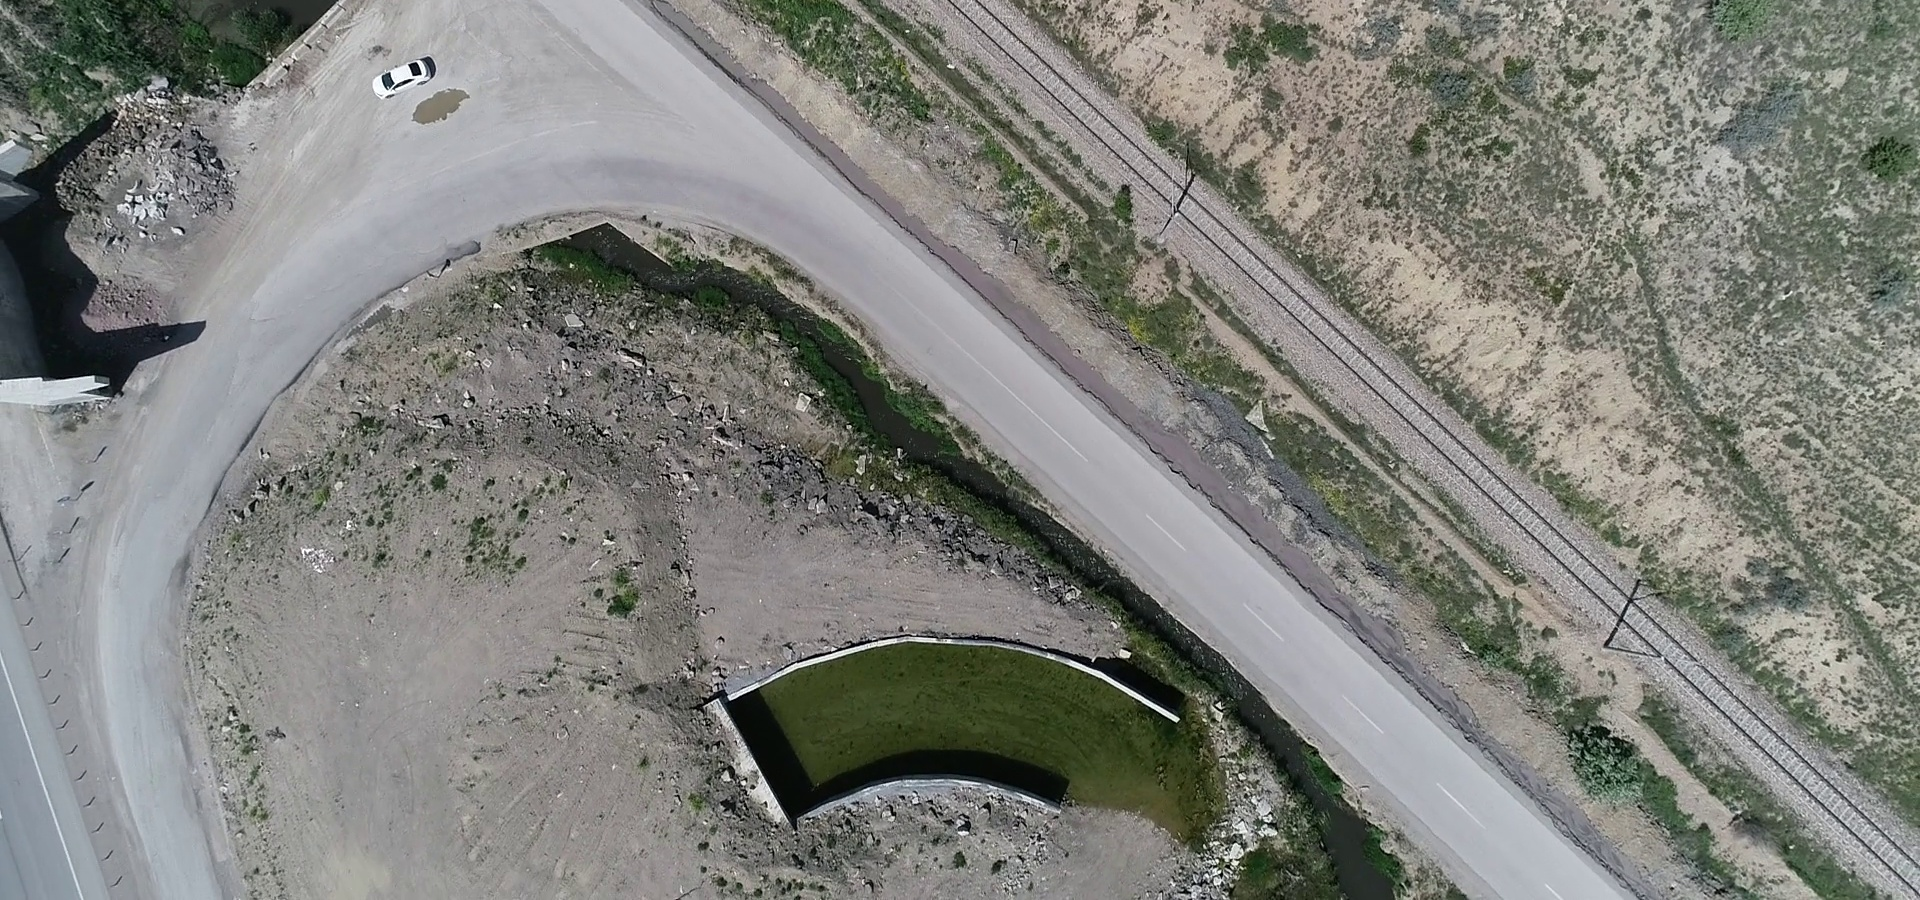araba: (376, 51, 436, 104)
